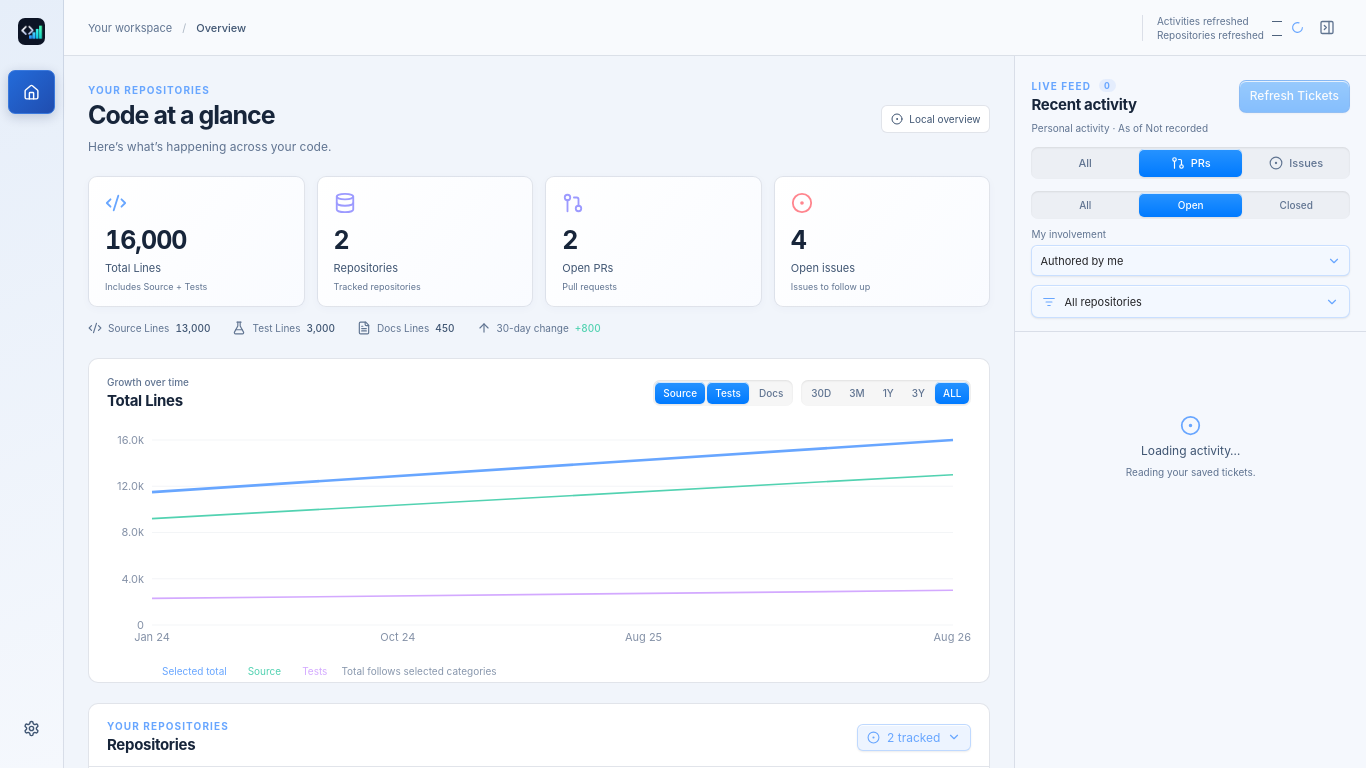
Scenario: dashboard UI › shows activity-only progress without a line scan
Expected: the heading "Code at a glance" is shown, [88,100,275,130]
Focus the element named "Refresh times" at {"x": 1223, "y": 28}, box [1142,14,1304,40]
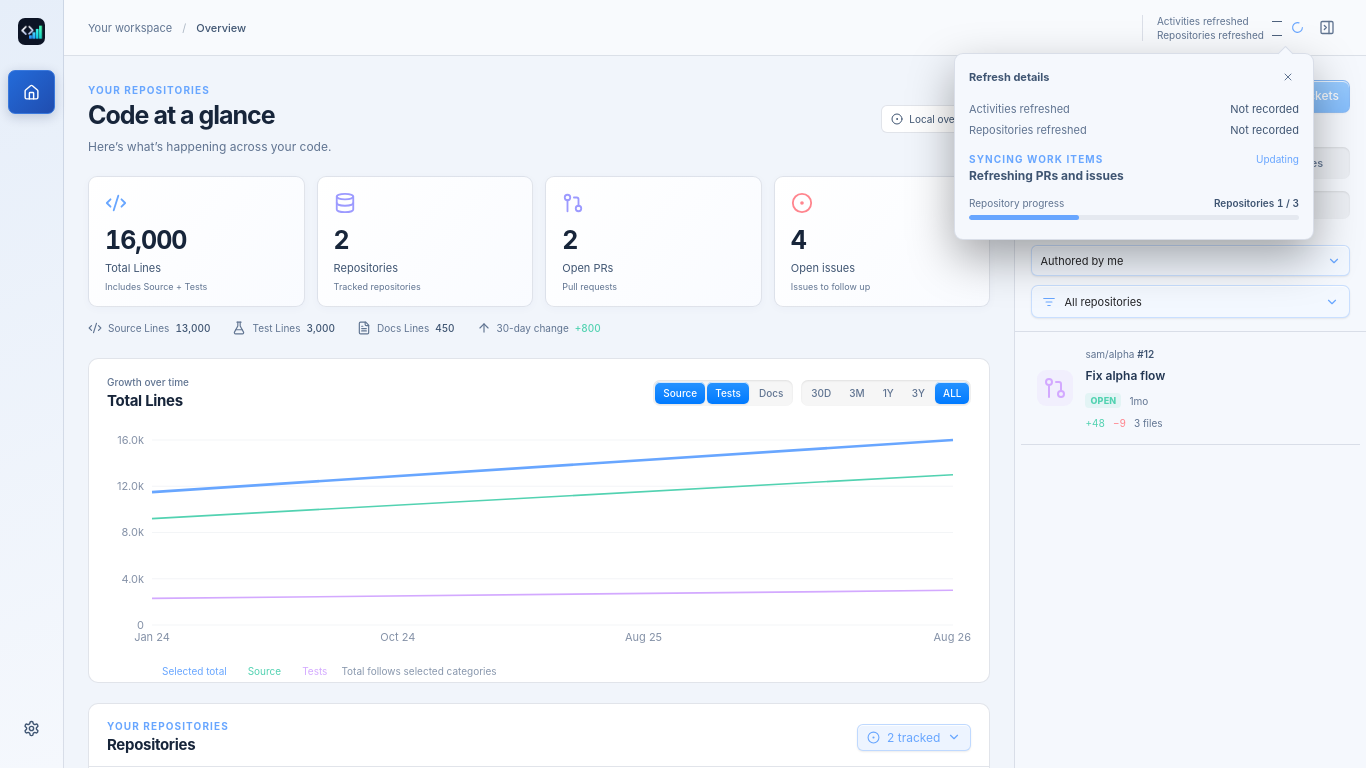
Result: the text "Refreshing PRs and issues" is shown at [969,168,1124,182]
Result: the progress indicator named "Repository progress" is shown at [969,214,1299,220]
